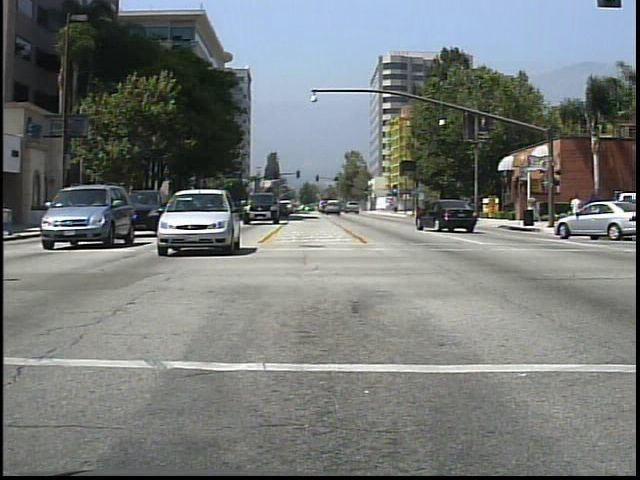person: (567, 191, 588, 235), (528, 192, 542, 227)
